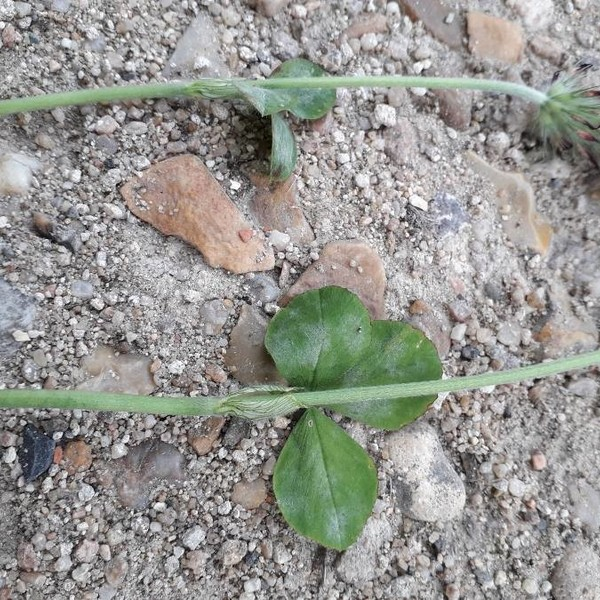obstacle: (26, 305, 552, 537)
